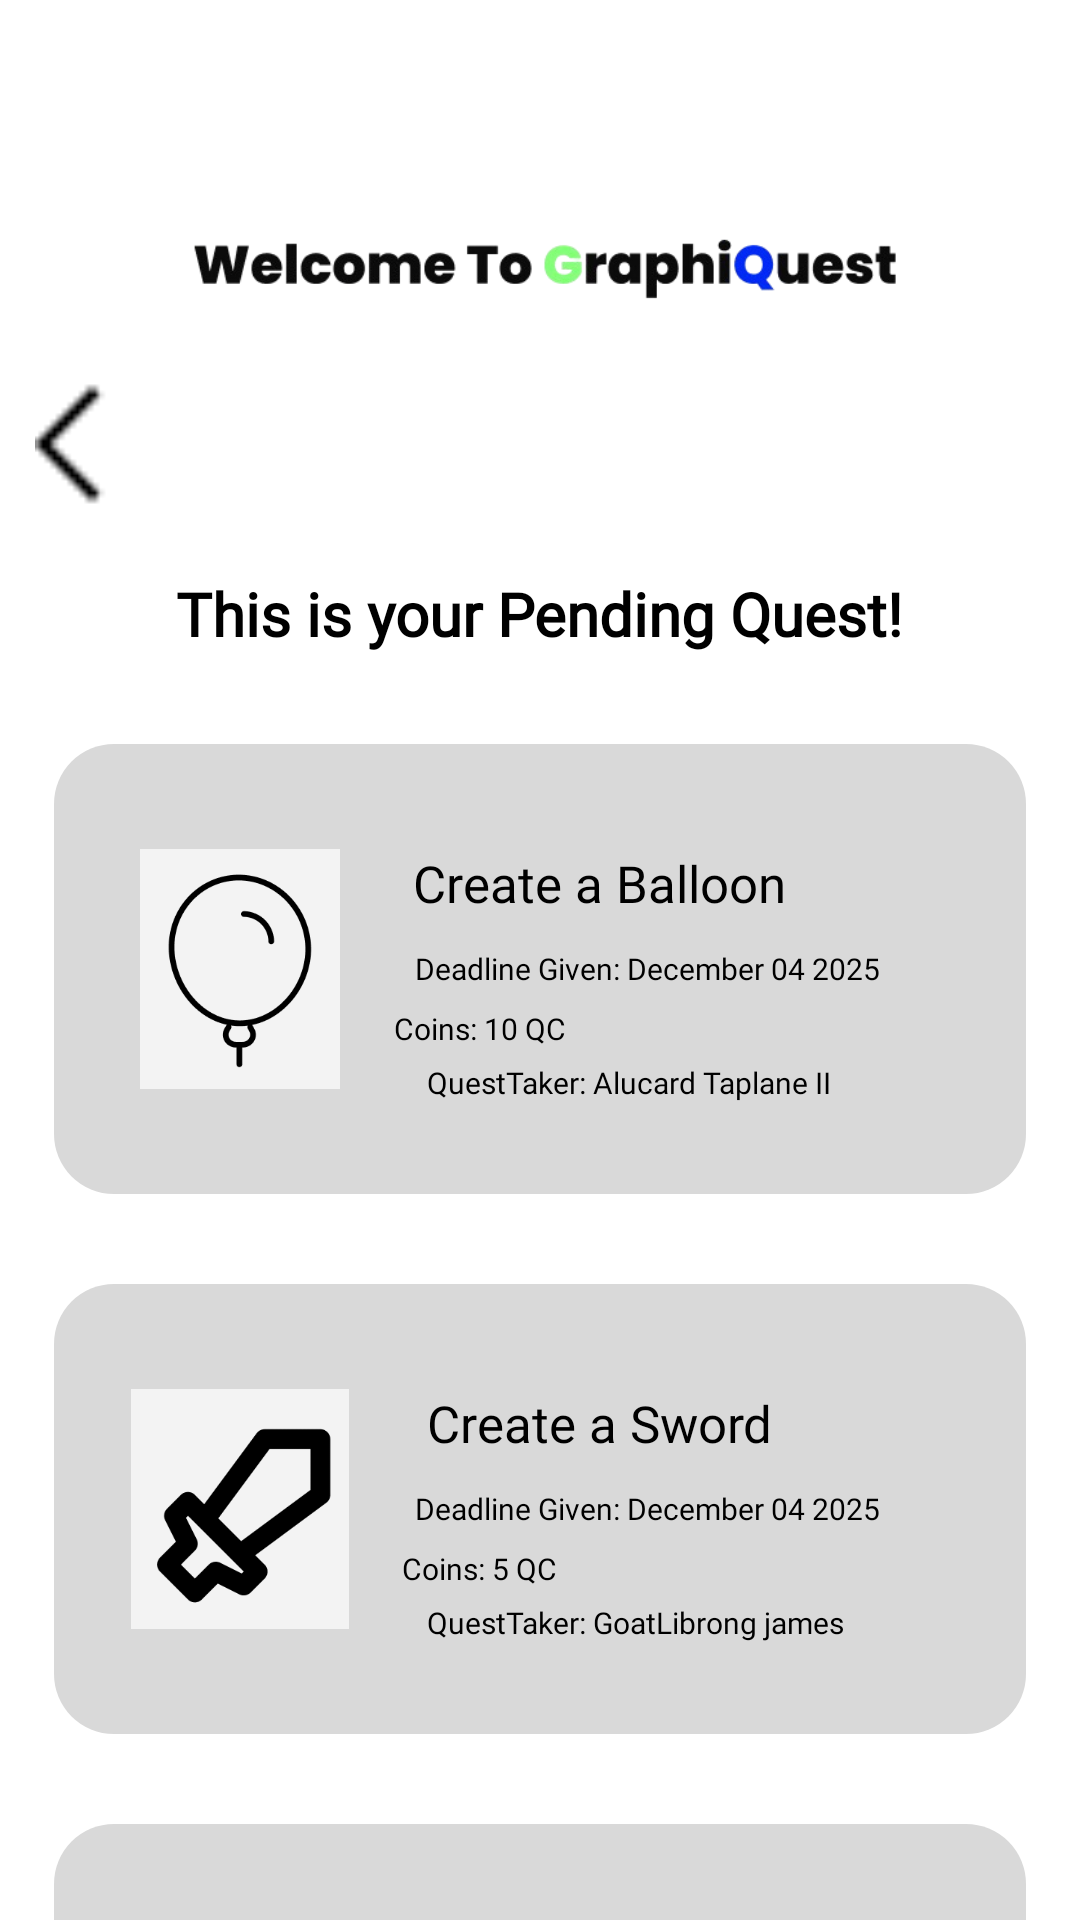

Icons on this 1080 × 1920 Android screen, each with its box as BBox(x1, y1, x2, y2):
backarrow: BBox(35, 385, 102, 503)
